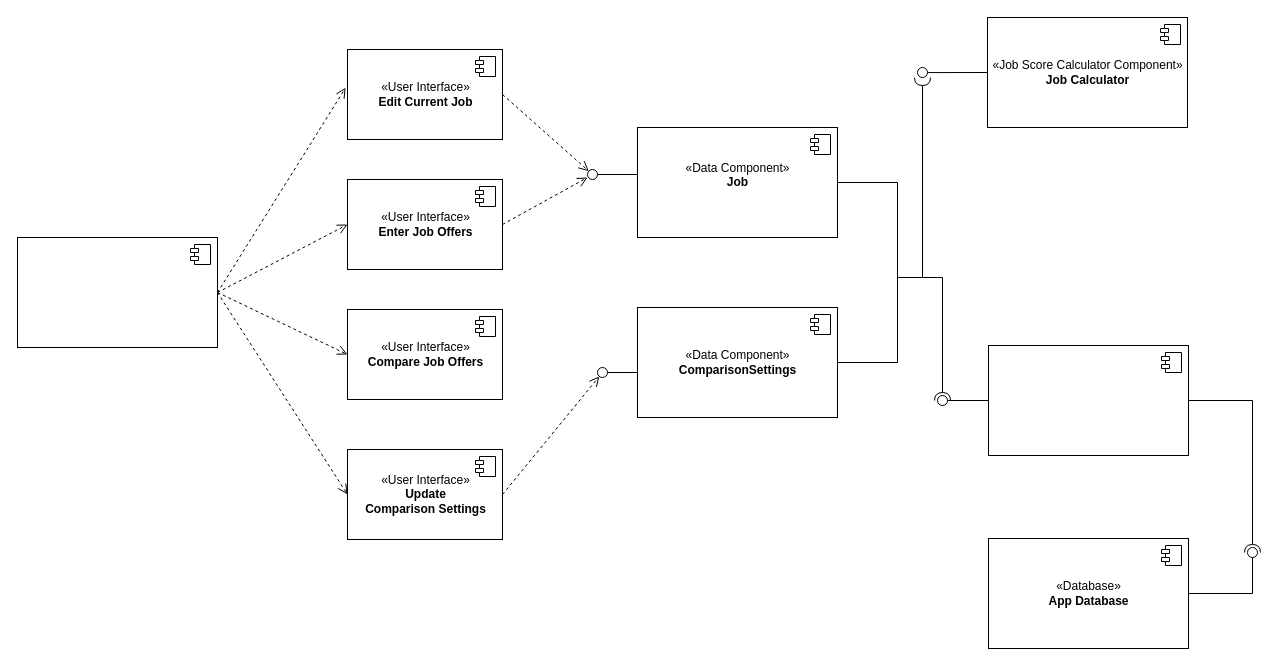
Some shapes in this 1278 by 666 pixel diagram are drawn without their labels. Each missing label, with the centre of its shape:
"«Infrastructure» Persistence" goes at (x=1088, y=400).
"«User Interface» Main Menu" goes at (x=117, y=292).
